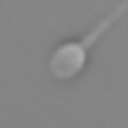normal: (82, 1, 128, 45)
